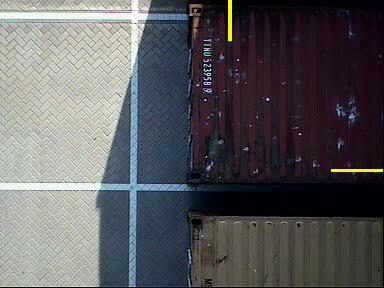groundmarker_2: (139, 72, 201, 119), (140, 213, 202, 260)
